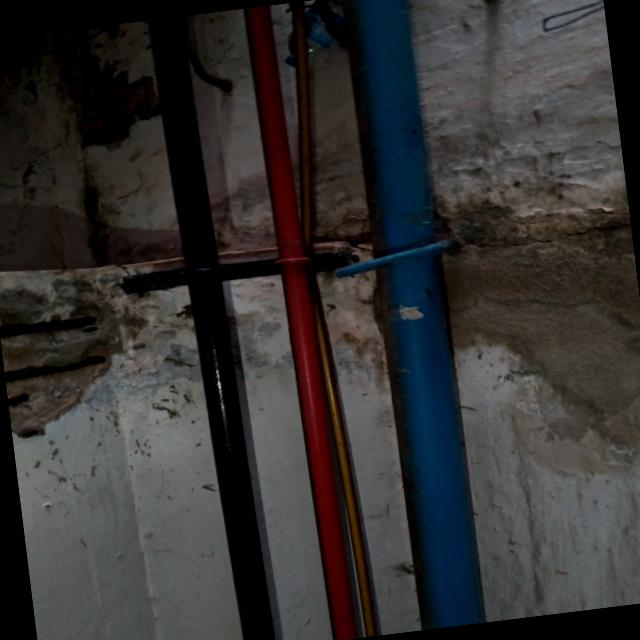gas: (337, 0, 489, 630), (144, 14, 280, 640), (241, 1, 363, 640)
